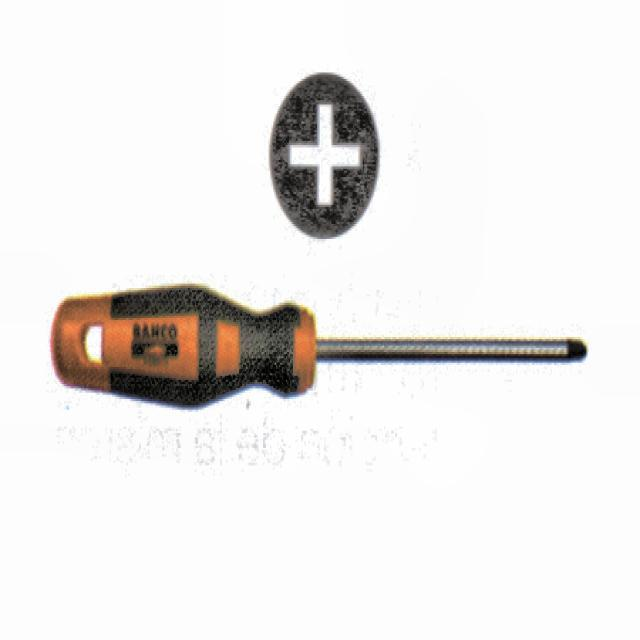screwdriver: (50, 281, 587, 411)
